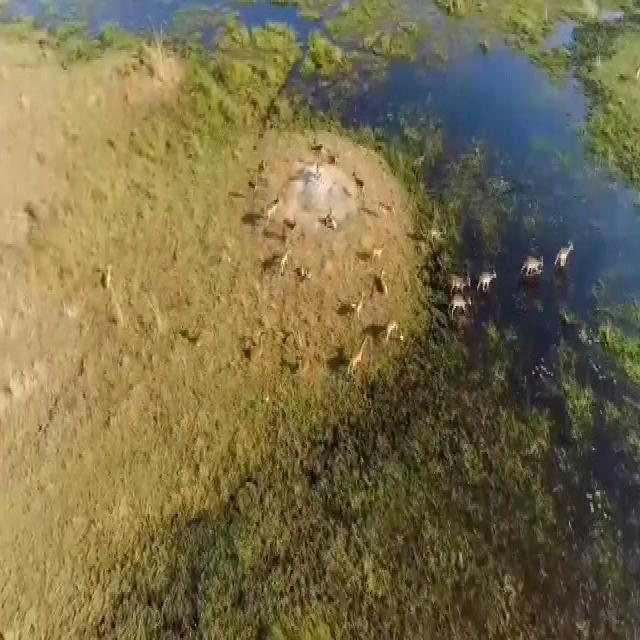Deer: (349, 154, 373, 217), (378, 312, 406, 356), (344, 335, 372, 376), (519, 245, 550, 282), (555, 236, 587, 270), (350, 282, 369, 337), (478, 266, 504, 297), (245, 164, 272, 193), (445, 270, 472, 295), (295, 259, 314, 293), (375, 266, 392, 302), (186, 329, 215, 348), (266, 198, 285, 225), (452, 299, 476, 320), (370, 236, 388, 261), (310, 139, 327, 164), (278, 253, 294, 278), (326, 214, 341, 240), (108, 263, 116, 295), (326, 148, 337, 168)
